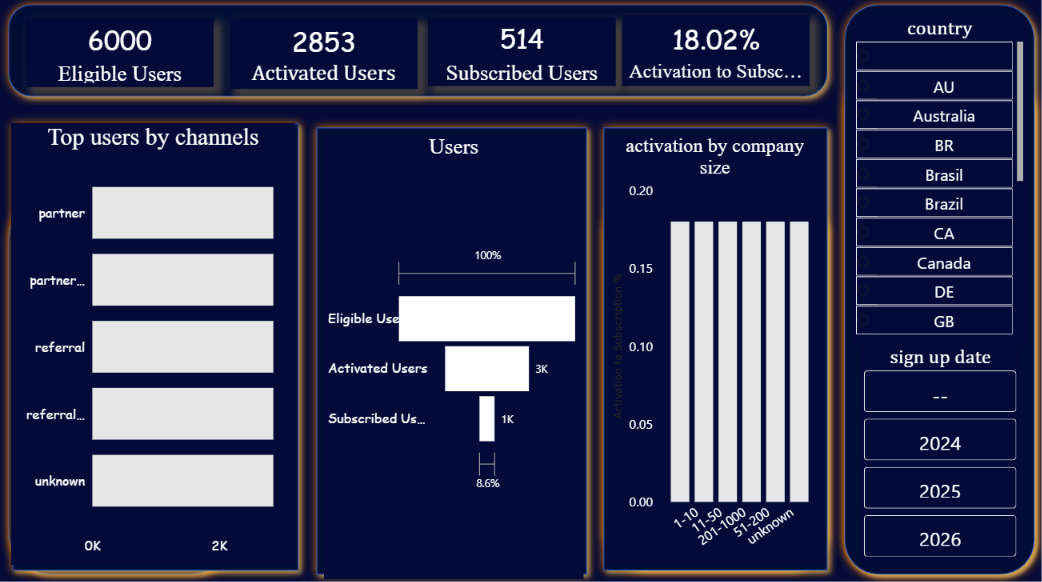

This screenshot's page, from the dashboard's own definition file:
{"tool":"powerbi","page":{"name":"Acquisition & Conversion","canvas":[1280,720],"ordinal":1},"visuals":[{"type":"shape","box":[0,0,1025.8,133.7],"z":0},{"type":"shape","box":[0,237.9,295.5,481.8],"z":1000},{"type":"shape","box":[730.3,233.3,295.5,481.8],"z":2000},{"type":"shape","box":[1025.8,89.4,254.5,630.3],"z":3000},{"type":"shape","box":[5.5,145.5,371.9,569.5],"z":4000},{"type":"shape","box":[377.4,150.9,352.7,569.5],"z":5000},{"type":"shape","box":[730.1,150.9,295.7,564.4],"z":6000},{"type":"shape","box":[1025.8,0,254,720.2],"z":7000},{"type":"card","fields":{"Values":["DimDate.Eligible Users"]},"box":[31.9,27,230.7,84.7],"z":8000},{"type":"card","fields":{"Values":["DimDate.Activated Users"]},"box":[282.2,27,230.7,87.1],"z":9000},{"type":"card","fields":{"Values":["DimDate.Subscribed Users"]},"box":[525.2,25.8,230.7,84.7],"z":10000},{"type":"card","fields":{"Values":["DimDate.Activation to Subscription %"]},"box":[763.2,23.3,230.7,87.1],"z":11000},{"type":"clusteredBarChart","title":"Top users by channels ","fields":{"Y":["DimDate.Activated Users"],"Category":["saas_product_analytics users_clean - copy.acquisition_channel"]},"box":[13.7,156.4,348.5,542],"z":12000},{"type":"clusteredColumnChart","title":"activation by company size","fields":{"Category":["saas_product_analytics customer_analysis.company_size"],"Y":["DimDate.Activation to Subscription %"]},"box":[745.1,168.8,264.8,529.7],"z":13000},{"type":"funnel","title":"Users ","fields":{"Y":["DimDate.Eligible Users","DimDate.Activated Users","DimDate.Subscribed Users"]},"box":[397.9,168.8,318.4,546.1],"z":14000},{"type":"listSlicer","title":"country","fields":{"Values":["saas_product_analytics eligible_users.country"]},"box":[1045.6,27.4,215.4,400.7],"z":15000},{"type":"advancedSlicerVisual","title":"sign up date ","fields":{"Values":["saas_product_analytics customer_analysis.signup_date.Variation.Date Hierarchy.Year"]},"box":[1055.2,430.9,197.6,263.5],"z":16000}]}

Visuals, with their boxes in screenshot pixels (x1, y1, x2, y2), scaled from the page's 1280x720 canvas onto the 1042x582 screenshot:
shape: box(0, 0, 835, 108)
shape: box(0, 192, 241, 581)
shape: box(595, 189, 835, 578)
shape: box(835, 72, 1041, 581)
shape: box(4, 118, 307, 578)
shape: box(307, 122, 594, 581)
shape: box(594, 122, 835, 578)
shape: box(835, 0, 1041, 581)
card - DimDate.Eligible Users: box(26, 22, 214, 90)
card - DimDate.Activated Users: box(230, 22, 418, 92)
card - DimDate.Subscribed Users: box(428, 21, 615, 89)
card - DimDate.Activation to Subscription %: box(621, 19, 809, 89)
"Top users by channels " clusteredBarChart: box(11, 126, 295, 565)
"activation by company size" clusteredColumnChart: box(607, 136, 822, 565)
"Users " funnel: box(324, 136, 583, 578)
"country" listSlicer: box(851, 22, 1027, 346)
"sign up date " advancedSlicerVisual: box(859, 348, 1020, 561)
